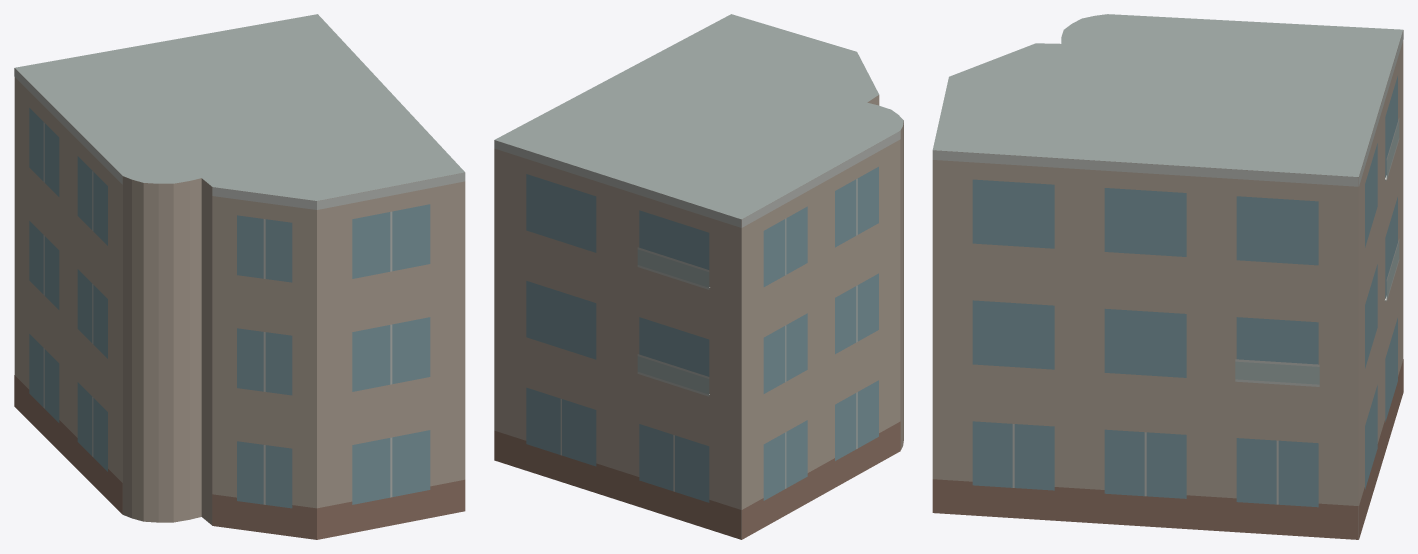
The model's file is survey-upis-32790897.glb.
3 views of the same model, side by side, from view 1: azimuth 30°, elevation 25°; view 2: azimuth 150°, elevation 25°; view 3: azimuth 270°, elevation 25° (orthographic). The views are drawn at different scales.
Visible parts, largest first — view 1: survey-upis-32790897.tmp; view 2: survey-upis-32790897.tmp; view 3: survey-upis-32790897.tmp.
Part boxes in pixels (x1=…): survey-upis-32790897.tmp: x1=14, y1=14, x2=465, y2=539; survey-upis-32790897.tmp: x1=494, y1=14, x2=903, y2=539; survey-upis-32790897.tmp: x1=932, y1=14, x2=1403, y2=539.
Bounding box in the file's own units: 8.83 × 9.15 × 10.77.
